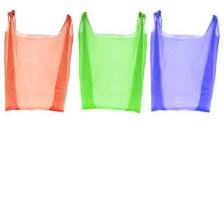plastic_bag: (146, 5, 224, 115), (0, 6, 76, 114), (72, 8, 147, 114)
